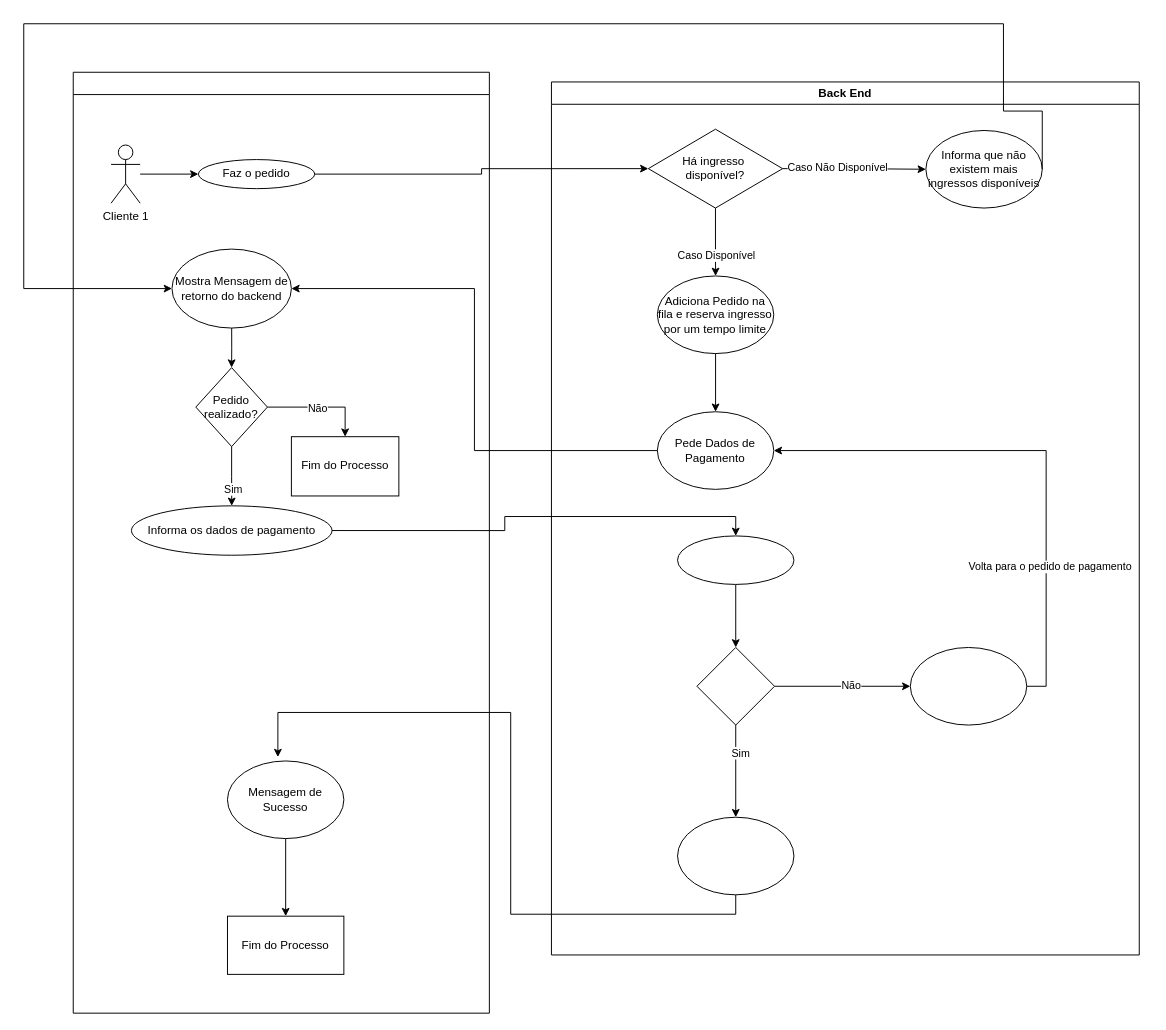
Image size: 1166x1030. Some labels were removed from this diagram. Here are the shapes that lost their labels. From the top down, the centre of each, then its label:
At (x=280, y=542): "Front End".
At (x=735, y=559): "Processa o pagamento".
At (x=735, y=686): "Sucesso?".
At (x=968, y=686): "Mensagem de erro de pagamento".
At (x=735, y=855): "Desconta do estoque e envia email do ingresso".
